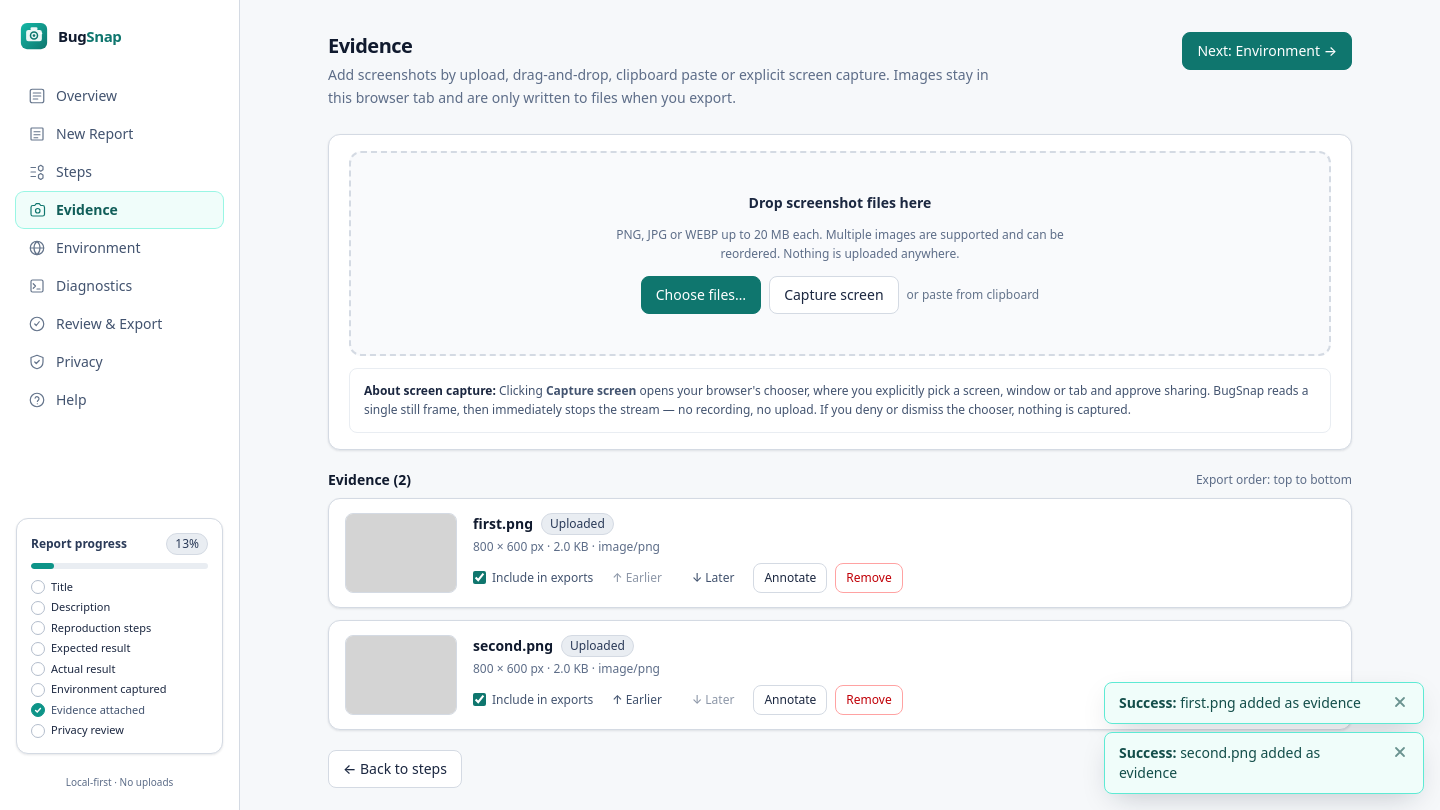
Test case: evidence workspace › reorders and removes evidence
This screenshot has width=1440, height=810.
Earlier steps of the test are not shown.
Expected: the text "second.png" is shown, [473,636,553,656]
Click the button with aria-label "Move first.png later": coordinates (713, 578) [681,562,745,592]
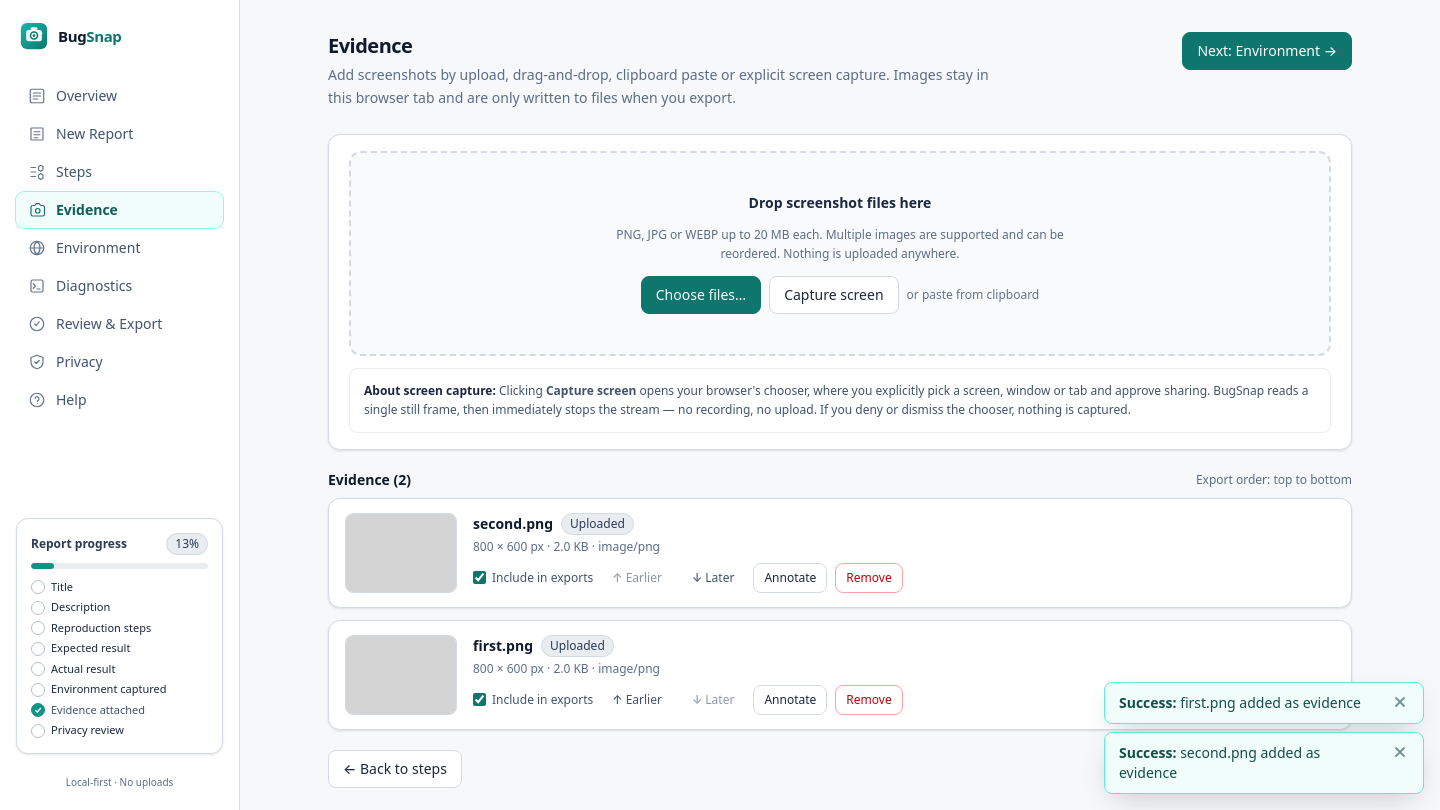
Click the button with aria-label "Remove second.png": coordinates (869, 578) [835,562,903,592]
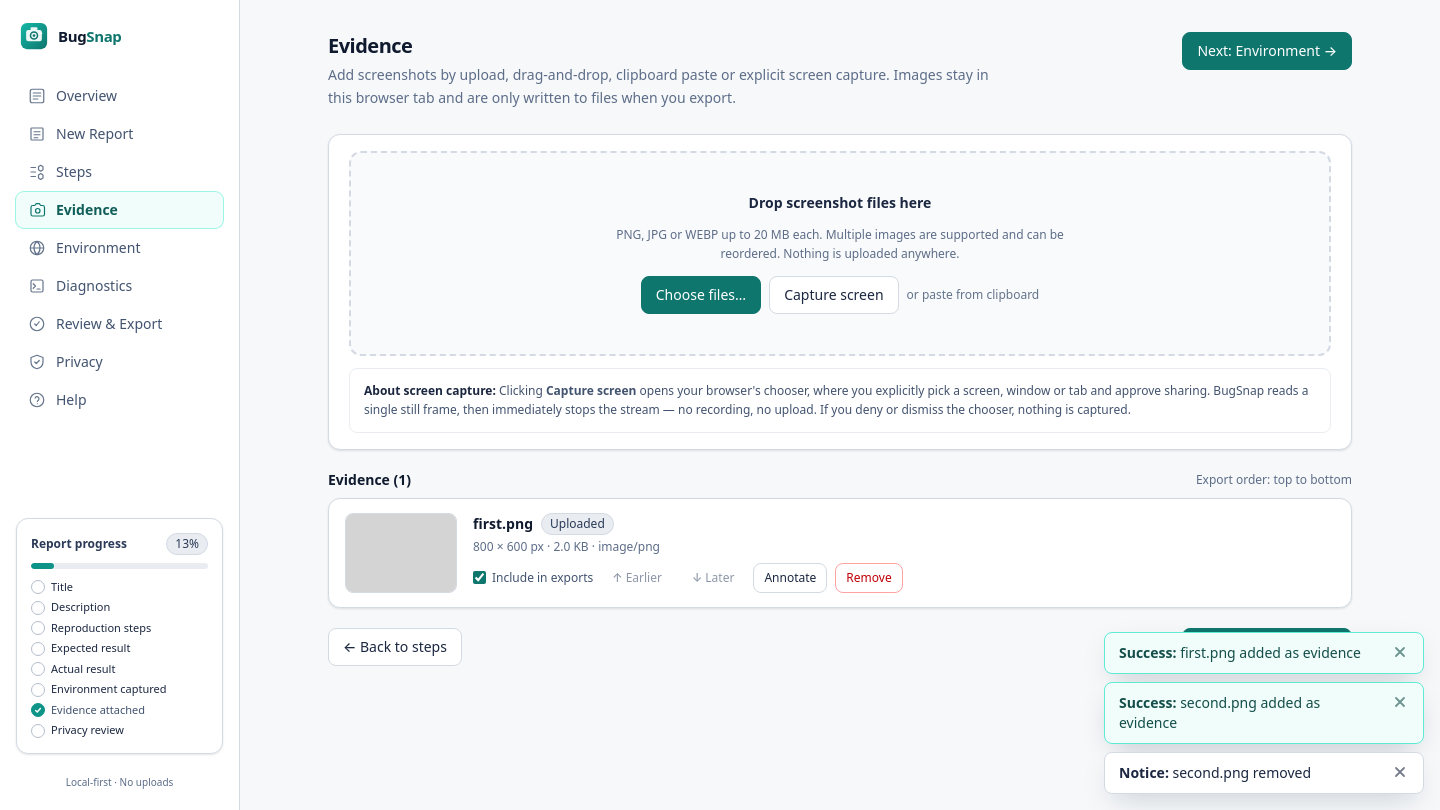
Expected: the text "first.png" is shown once, [473,514,533,534]
